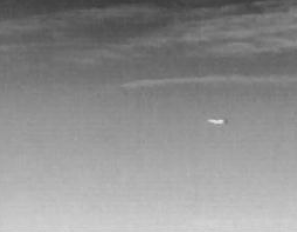Target: (208, 119, 222, 123)
